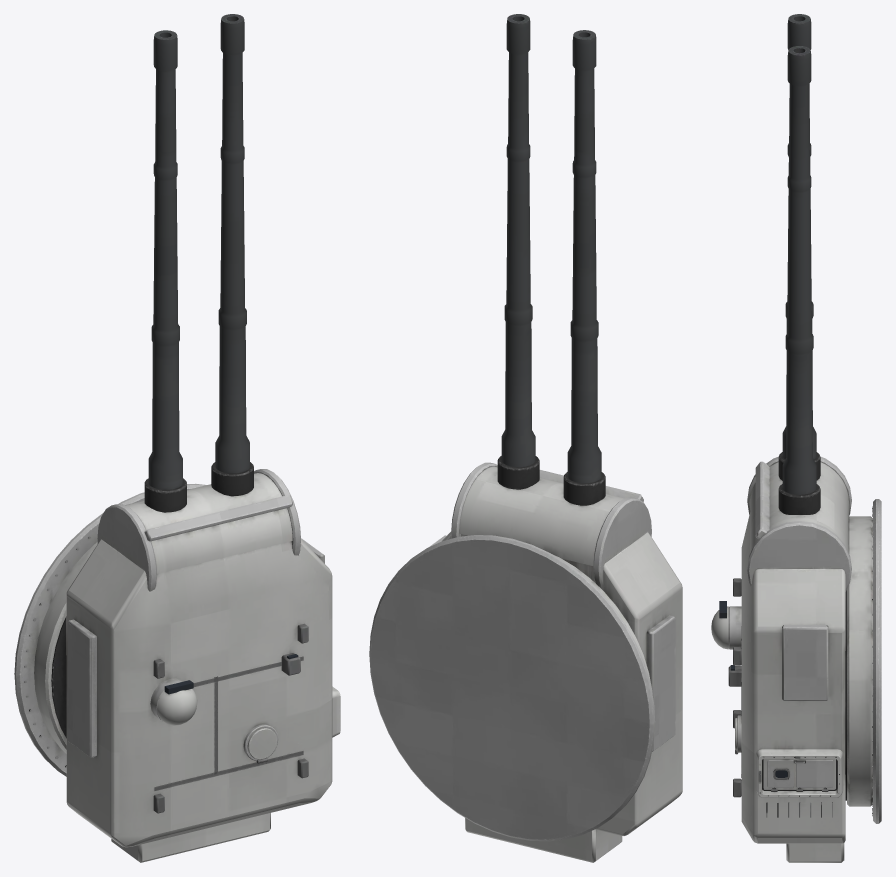
The model's file is turret-M.glb.
The picture shows the model from 3 angles, left to right: view 1: azimuth 30°, elevation 25°; view 2: azimuth 150°, elevation 25°; view 3: azimuth 270°, elevation 25°; orthographic projection. The views are drawn at different scales.
Visible parts, largest first — view 1: turret-M; view 2: turret-M; view 3: turret-M.
Part boxes in pixels (box(x1,y1,x2,y2)): turret-M: box(14, 14, 340, 862); turret-M: box(369, 14, 682, 862); turret-M: box(711, 14, 881, 862).
Bounding box in the file's own units: 8.96 × 24.36 × 4.7.
1 material, 1 textured.
